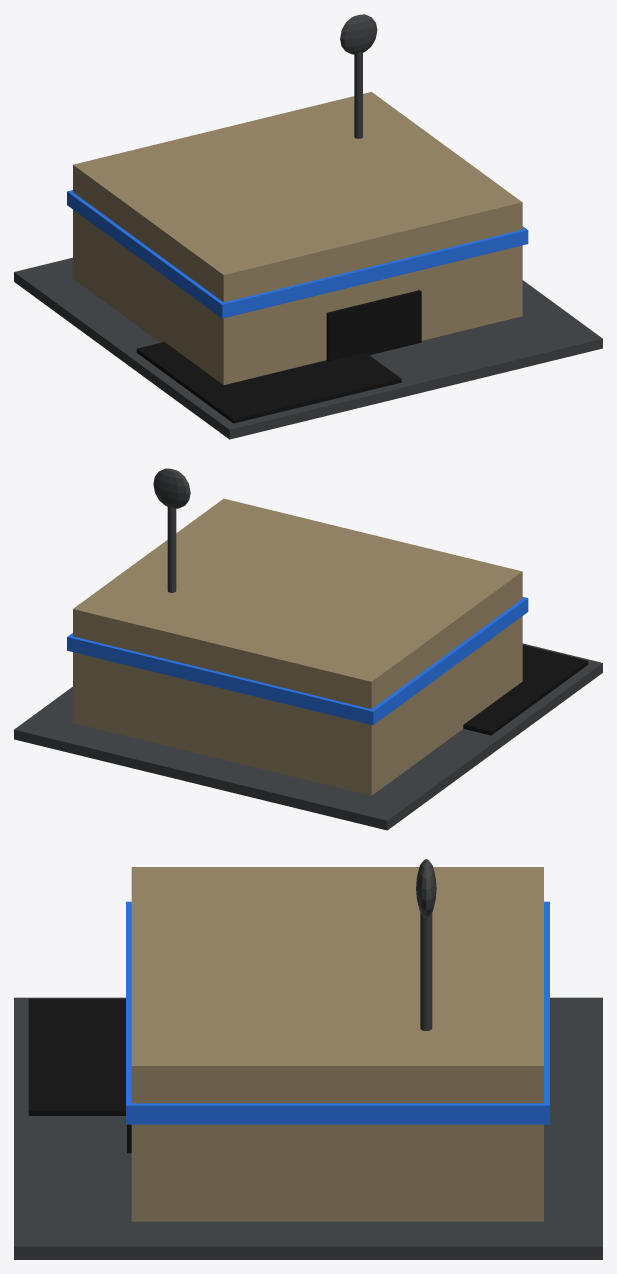
File: ae_procurement_office.glb
3 renders of one model, top to bottom at view 1: azimuth 30°, elevation 25°; view 2: azimuth 150°, elevation 25°; view 3: azimuth 270°, elevation 25°, orthographic. The views are drawn at different scales.
Visible parts, largest first — view 1: main, base, pad, team_band, door, dish, mast; view 2: main, base, team_band, pad, dish, mast; view 3: main, base, team_band, pad, mast, dish.
Part boxes in pixels (x1,y1,x2,y2): main: [73, 92, 522, 384]; base: [14, 257, 602, 439]; pad: [136, 342, 401, 423]; team_band: [67, 190, 528, 318]; door: [326, 290, 421, 361]; dish: [340, 14, 377, 54]; mast: [354, 51, 362, 138]; main: [73, 498, 522, 795]; base: [14, 643, 602, 830]; team_band: [67, 597, 528, 725]; pad: [463, 645, 588, 735]; dish: [153, 468, 190, 508]; mast: [167, 505, 176, 592]; main: [131, 867, 543, 1221]; base: [14, 997, 602, 1259]; team_band: [126, 901, 549, 1124]; pad: [28, 998, 125, 1115]; mast: [420, 912, 432, 1030]; dish: [416, 859, 436, 917].
Size of the model in its own units: 12 by 7.55 by 12.
